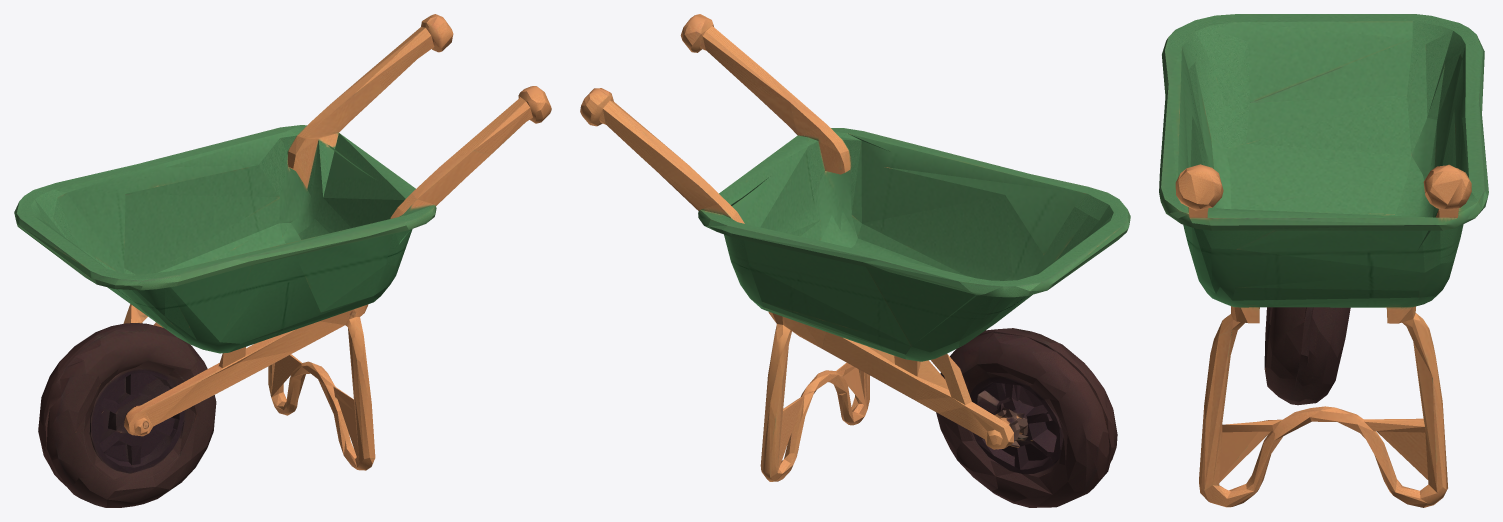
Rendered from wheelbarrow.glb.
The picture shows the model from 3 angles, left to right: view 1: azimuth 30°, elevation 25°; view 2: azimuth 150°, elevation 25°; view 3: azimuth 270°, elevation 25°; orthographic projection. The views are drawn at different scales.
Visible parts, largest first — view 1: geometry_0; view 2: geometry_0; view 3: geometry_0.
Part boxes in pixels (x1,y1,x2,y2): geometry_0: (14,14,551,507); geometry_0: (580,14,1130,507); geometry_0: (1159,14,1488,507).
Bounding box in the file's own units: 1.15 × 0.85 × 0.5635.
Materials: 1 (1 with a texture image).
